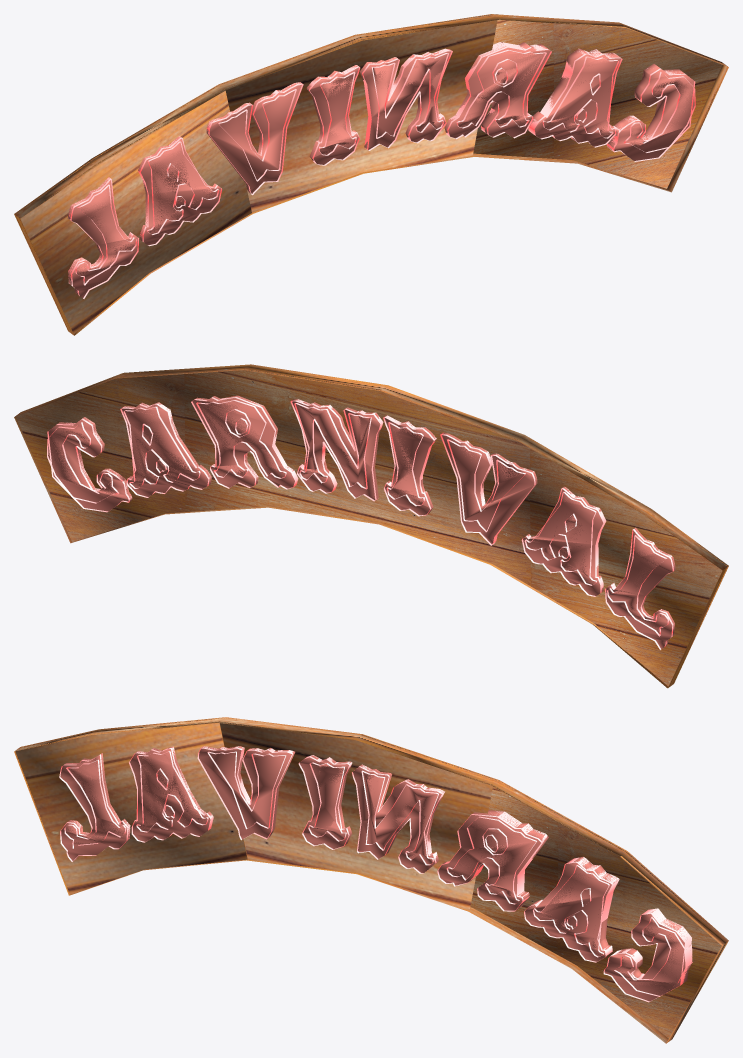
Rendered from carnival.glb.
3 renders of one model, top to bottom at view 1: azimuth 30°, elevation 25°; view 2: azimuth 150°, elevation 25°; view 3: azimuth 330°, elevation 25°, orthographic.
Parts seen in each view (by area): view 1: BezierCircle.000, Text, Text.001; view 2: BezierCircle.000, Text, Text.001; view 3: BezierCircle.000, Text, Text.001.
Boxes of the visible parts, x1=… form: BezierCircle.000: x1=14, y1=14, x2=728, y2=335; Text: x1=67, y1=42, x2=694, y2=298; Text.001: x1=68, y1=42, x2=695, y2=298; BezierCircle.000: x1=14, y1=364, x2=728, y2=688; Text: x1=48, y1=395, x2=675, y2=648; Text.001: x1=47, y1=397, x2=673, y2=649; BezierCircle.000: x1=14, y1=717, x2=728, y2=1043; Text: x1=60, y1=746, x2=692, y2=1001; Text.001: x1=59, y1=746, x2=692, y2=1002.
Bounding box in the file's own units: 5.32 × 1.64 × 0.14.
3 materials, 1 textured.
